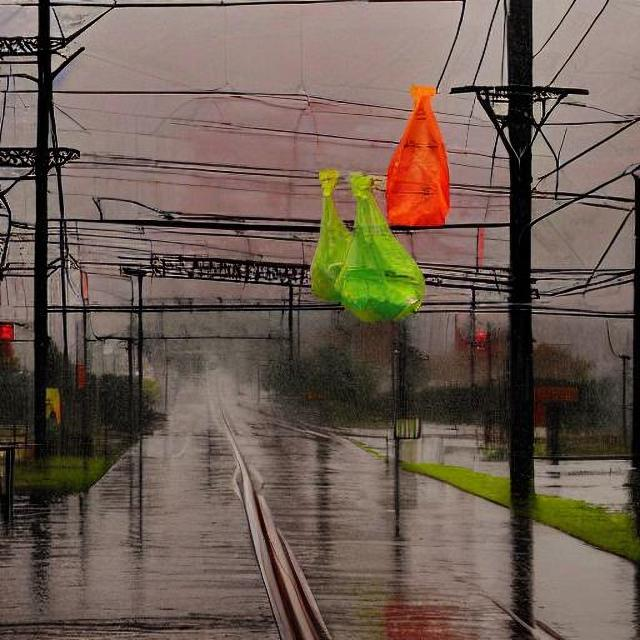plastic bag: (309, 163, 425, 320), (385, 84, 450, 228)
